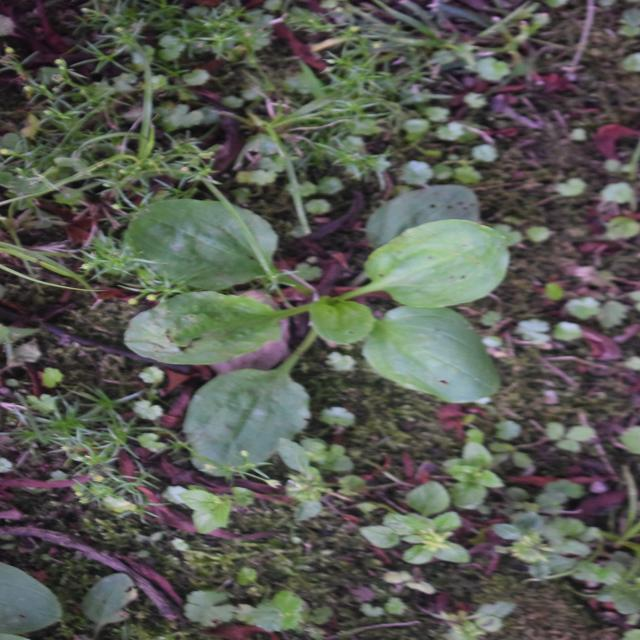plantain: (195, 105, 468, 500)
